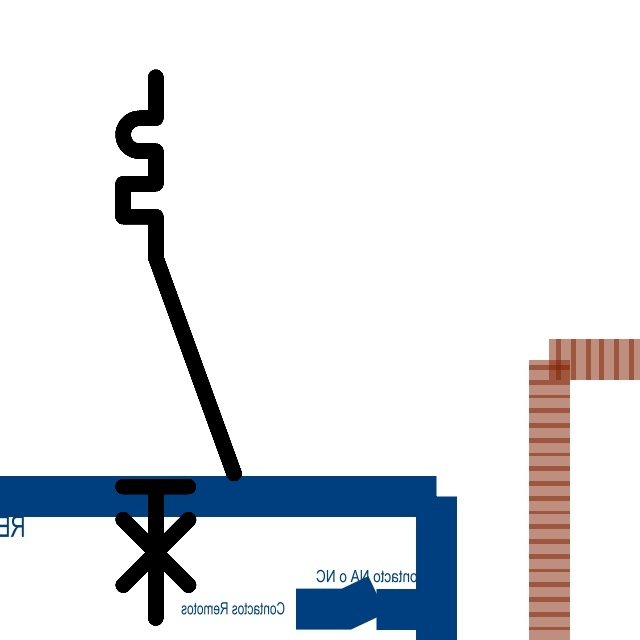interruptor_termomagnetico: (109, 63, 248, 632)
